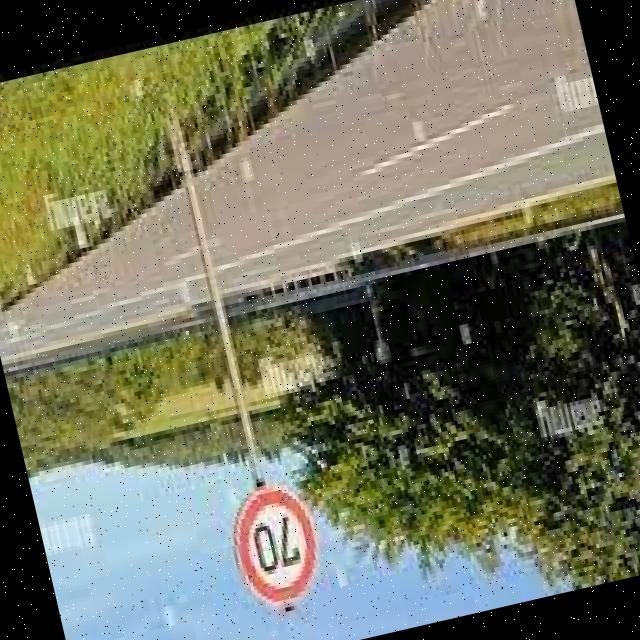speed_limit_70: (217, 469, 344, 624)
